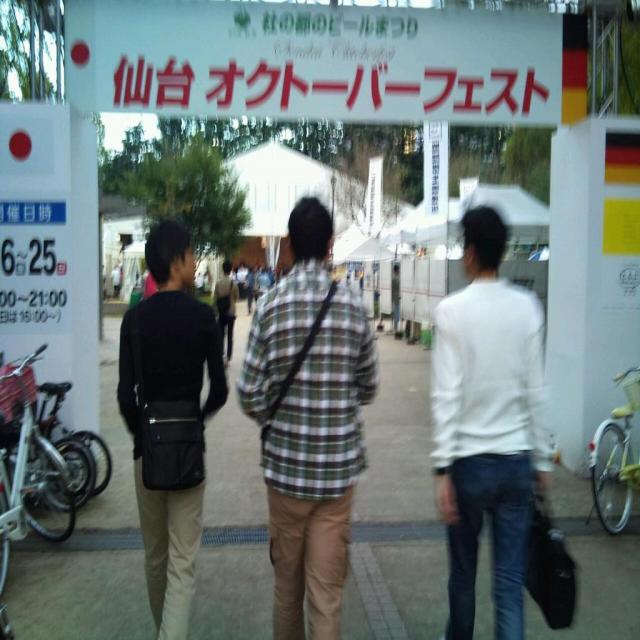car: (2, 348, 76, 600), (8, 380, 118, 498), (0, 384, 86, 514), (584, 367, 640, 541)
